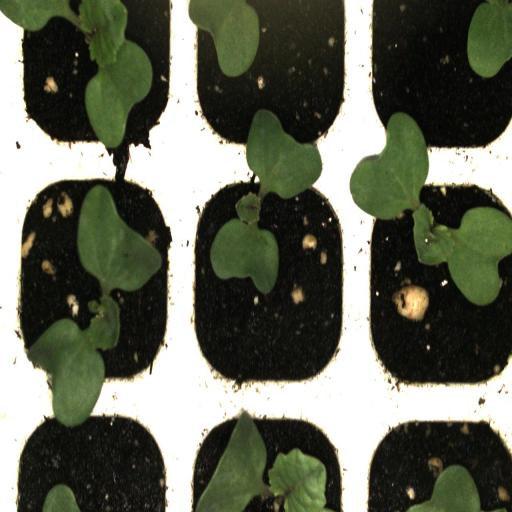Folha: (188, 0, 264, 78), (406, 464, 481, 512), (467, 0, 512, 78)
Germinacao: (180, 165, 358, 400), (8, 164, 179, 399), (359, 163, 512, 402), (8, 0, 178, 162), (182, 400, 358, 512)
